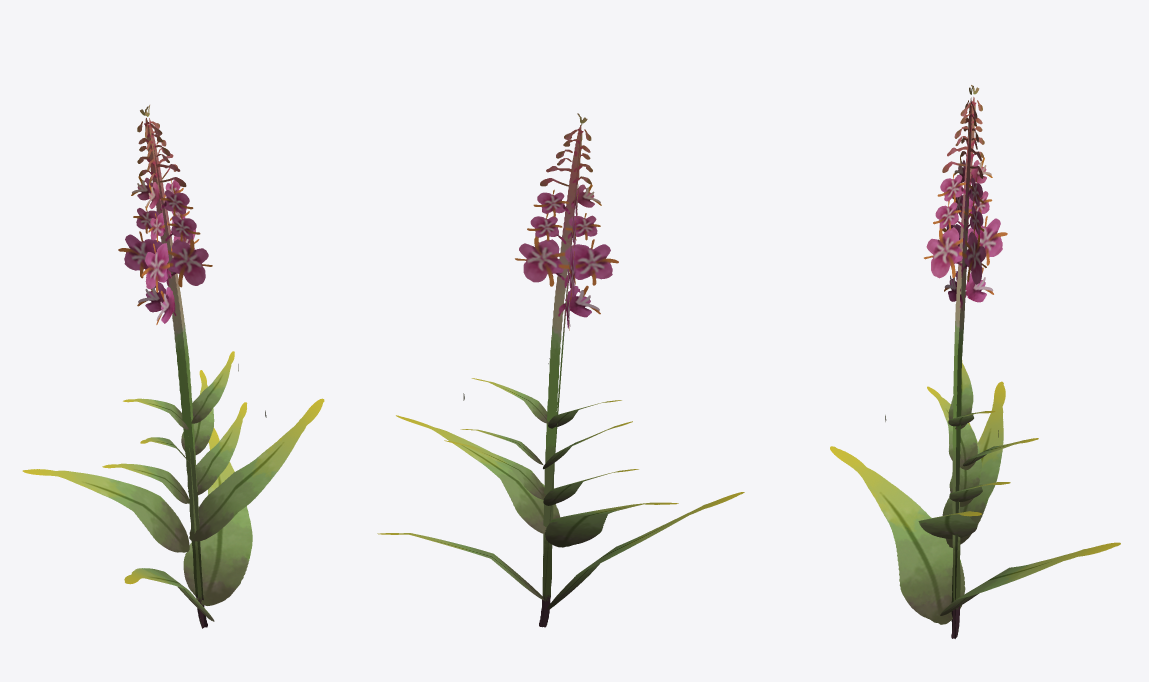
Rendered from RosebayWilloeHerb.fbx.
3 renders of one model, left to right at view 1: azimuth 30°, elevation 25°; view 2: azimuth 150°, elevation 25°; view 3: azimuth 270°, elevation 25°, orthographic.
Parts seen in each view (by area): view 1: RosebayWillowherb; view 2: RosebayWillowherb; view 3: RosebayWillowherb.
Boxes of the visible parts, x1,y1,x2,y2 form: RosebayWillowherb: (22, 105, 324, 628); RosebayWillowherb: (377, 113, 744, 627); RosebayWillowherb: (830, 85, 1120, 638).
Size of the model in its own units: 0.2919 by 0.5062 by 0.2765.
1 material, 1 textured.
